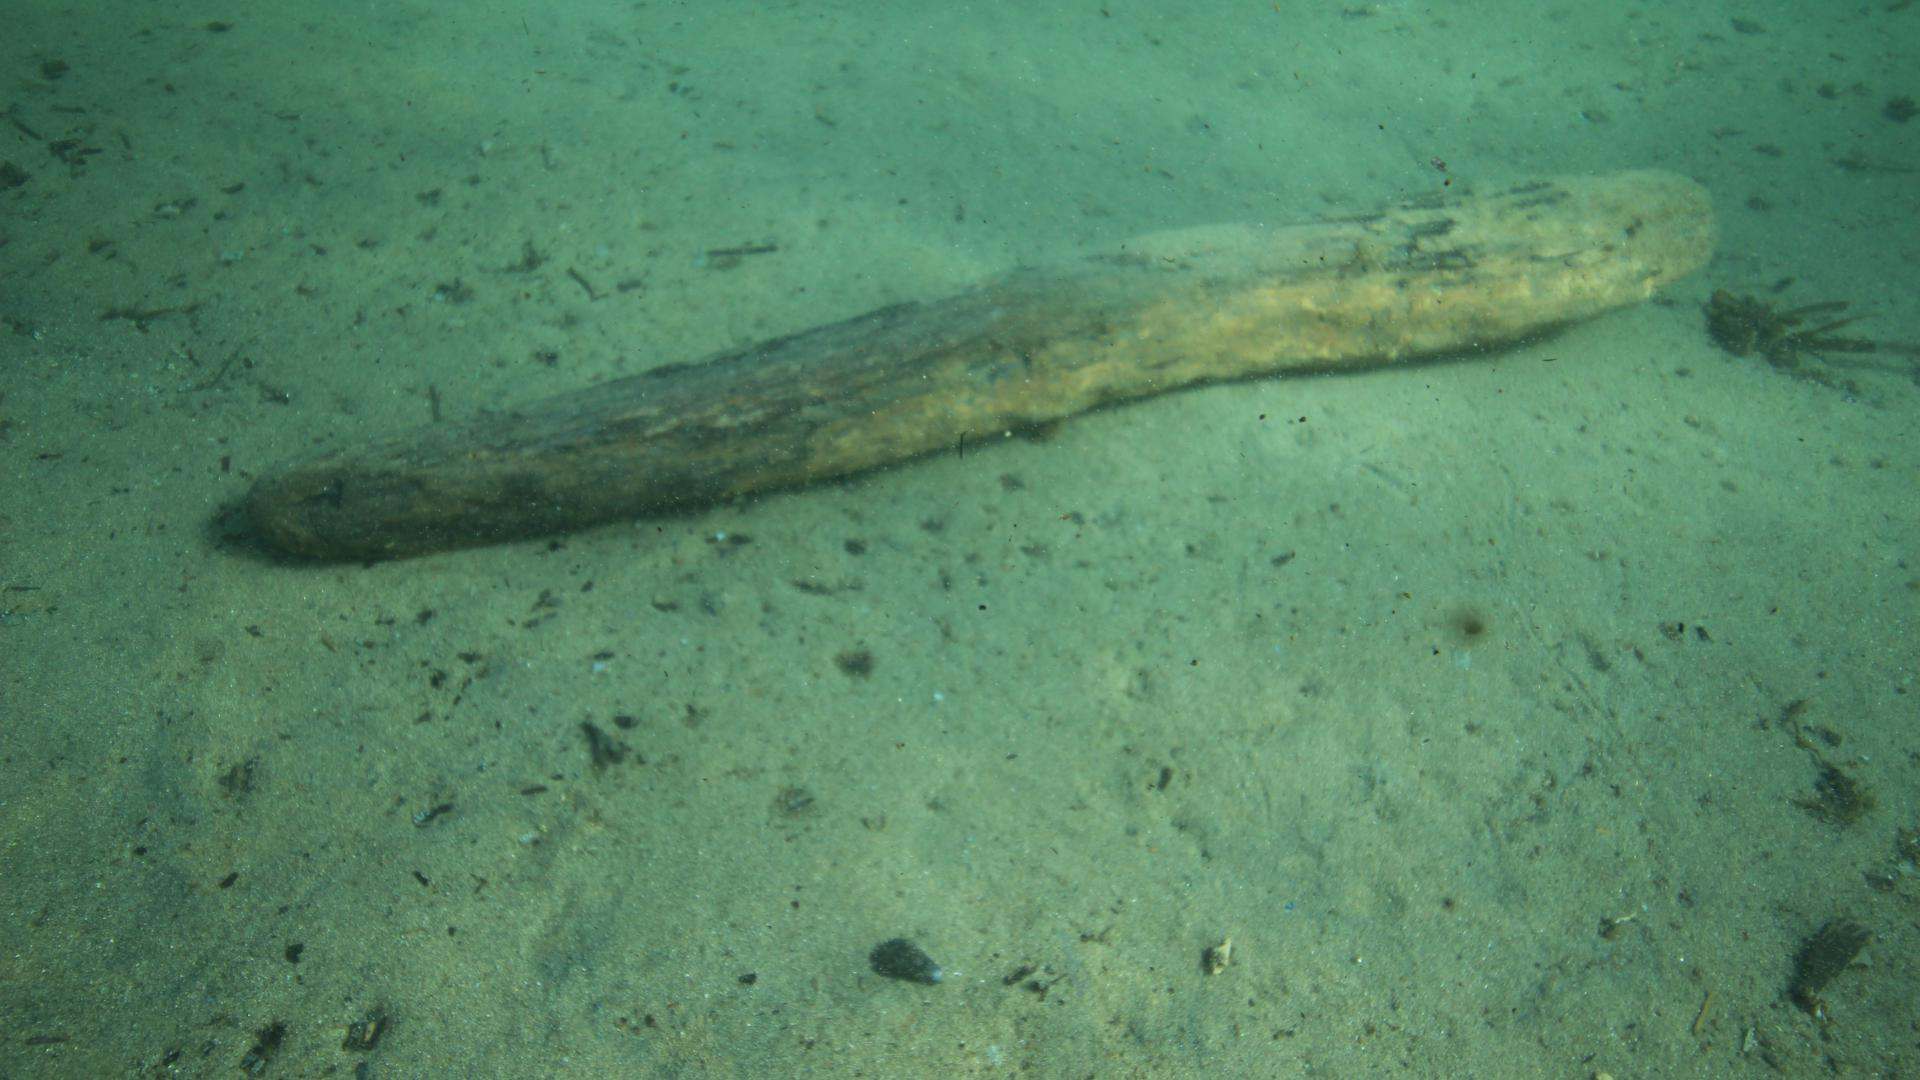wood: (247, 167, 1718, 559)
